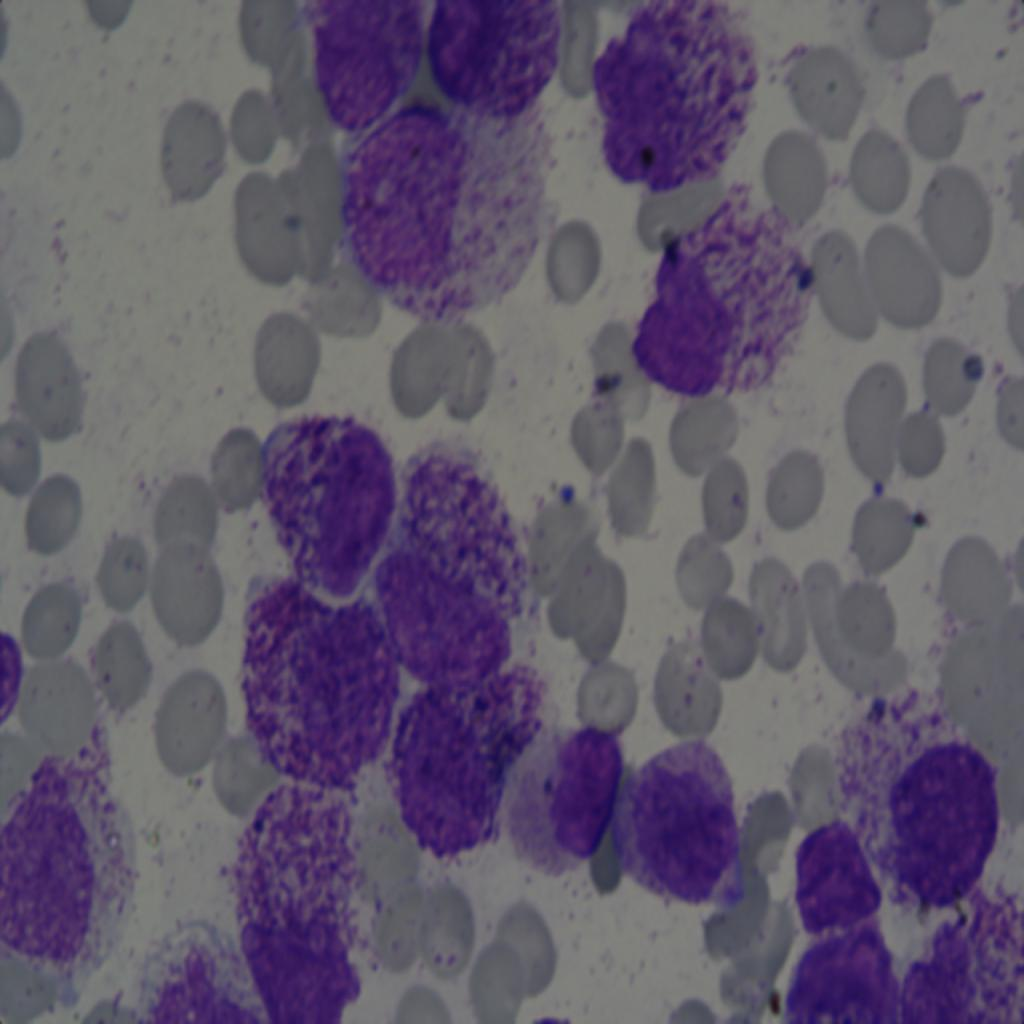Myeoblast: (242, 582, 386, 787), (224, 818, 366, 1023), (586, 0, 740, 188), (338, 108, 464, 304), (626, 214, 748, 416), (0, 771, 113, 964), (624, 732, 747, 906), (284, 416, 408, 583), (885, 734, 1004, 906), (392, 686, 503, 860), (429, 0, 571, 122), (311, 0, 433, 131), (388, 551, 498, 688), (782, 800, 884, 940), (538, 715, 620, 859)
